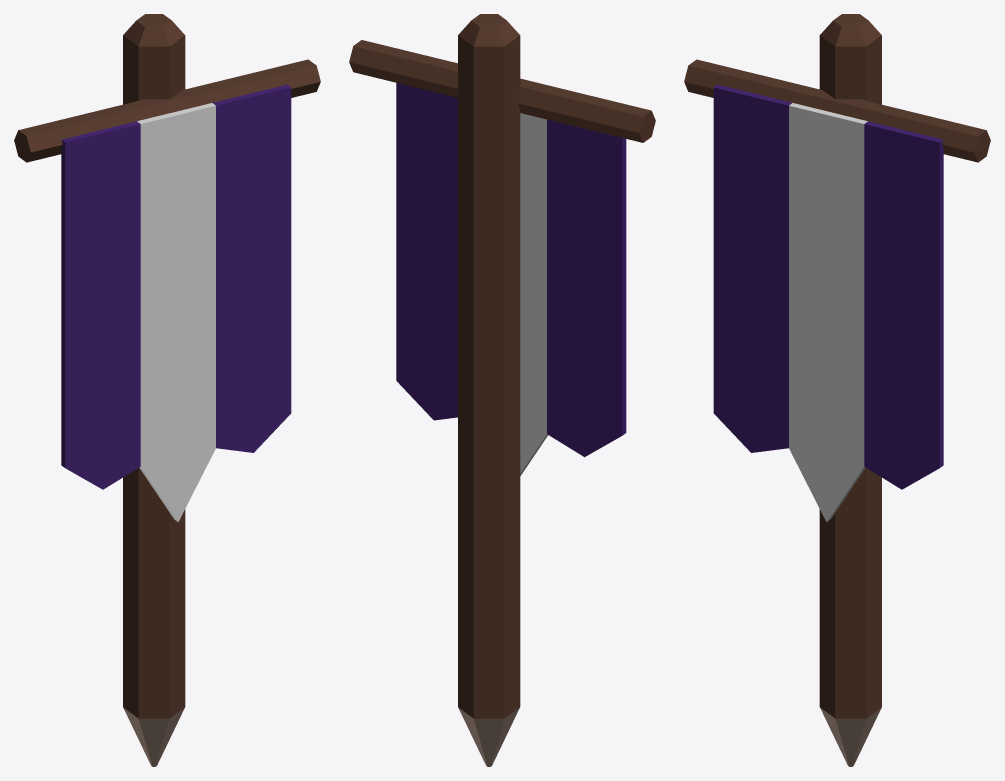
Rendered from banner.fbx.
3 renders of one model, left to right at view 1: azimuth 30°, elevation 25°; view 2: azimuth 150°, elevation 25°; view 3: azimuth 330°, elevation 25°, orthographic.
Visible parts, largest first — view 1: Cube.001; view 2: Cube.001; view 3: Cube.001.
Boxes of the visible parts, x1=… form: Cube.001: x1=14, y1=14, x2=320, y2=766; Cube.001: x1=349, y1=14, x2=655, y2=766; Cube.001: x1=684, y1=14, x2=990, y2=766.
Bounding box in the file's own units: 47.02 × 115 × 11.18.
